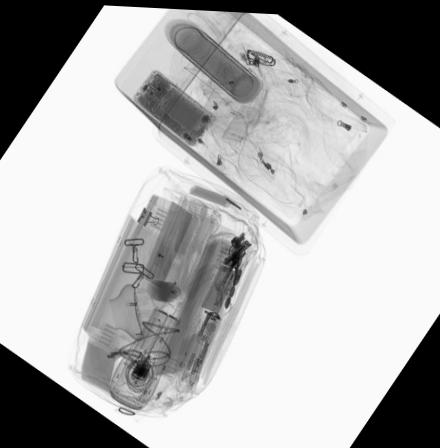Lighter: (215, 266, 238, 301)
